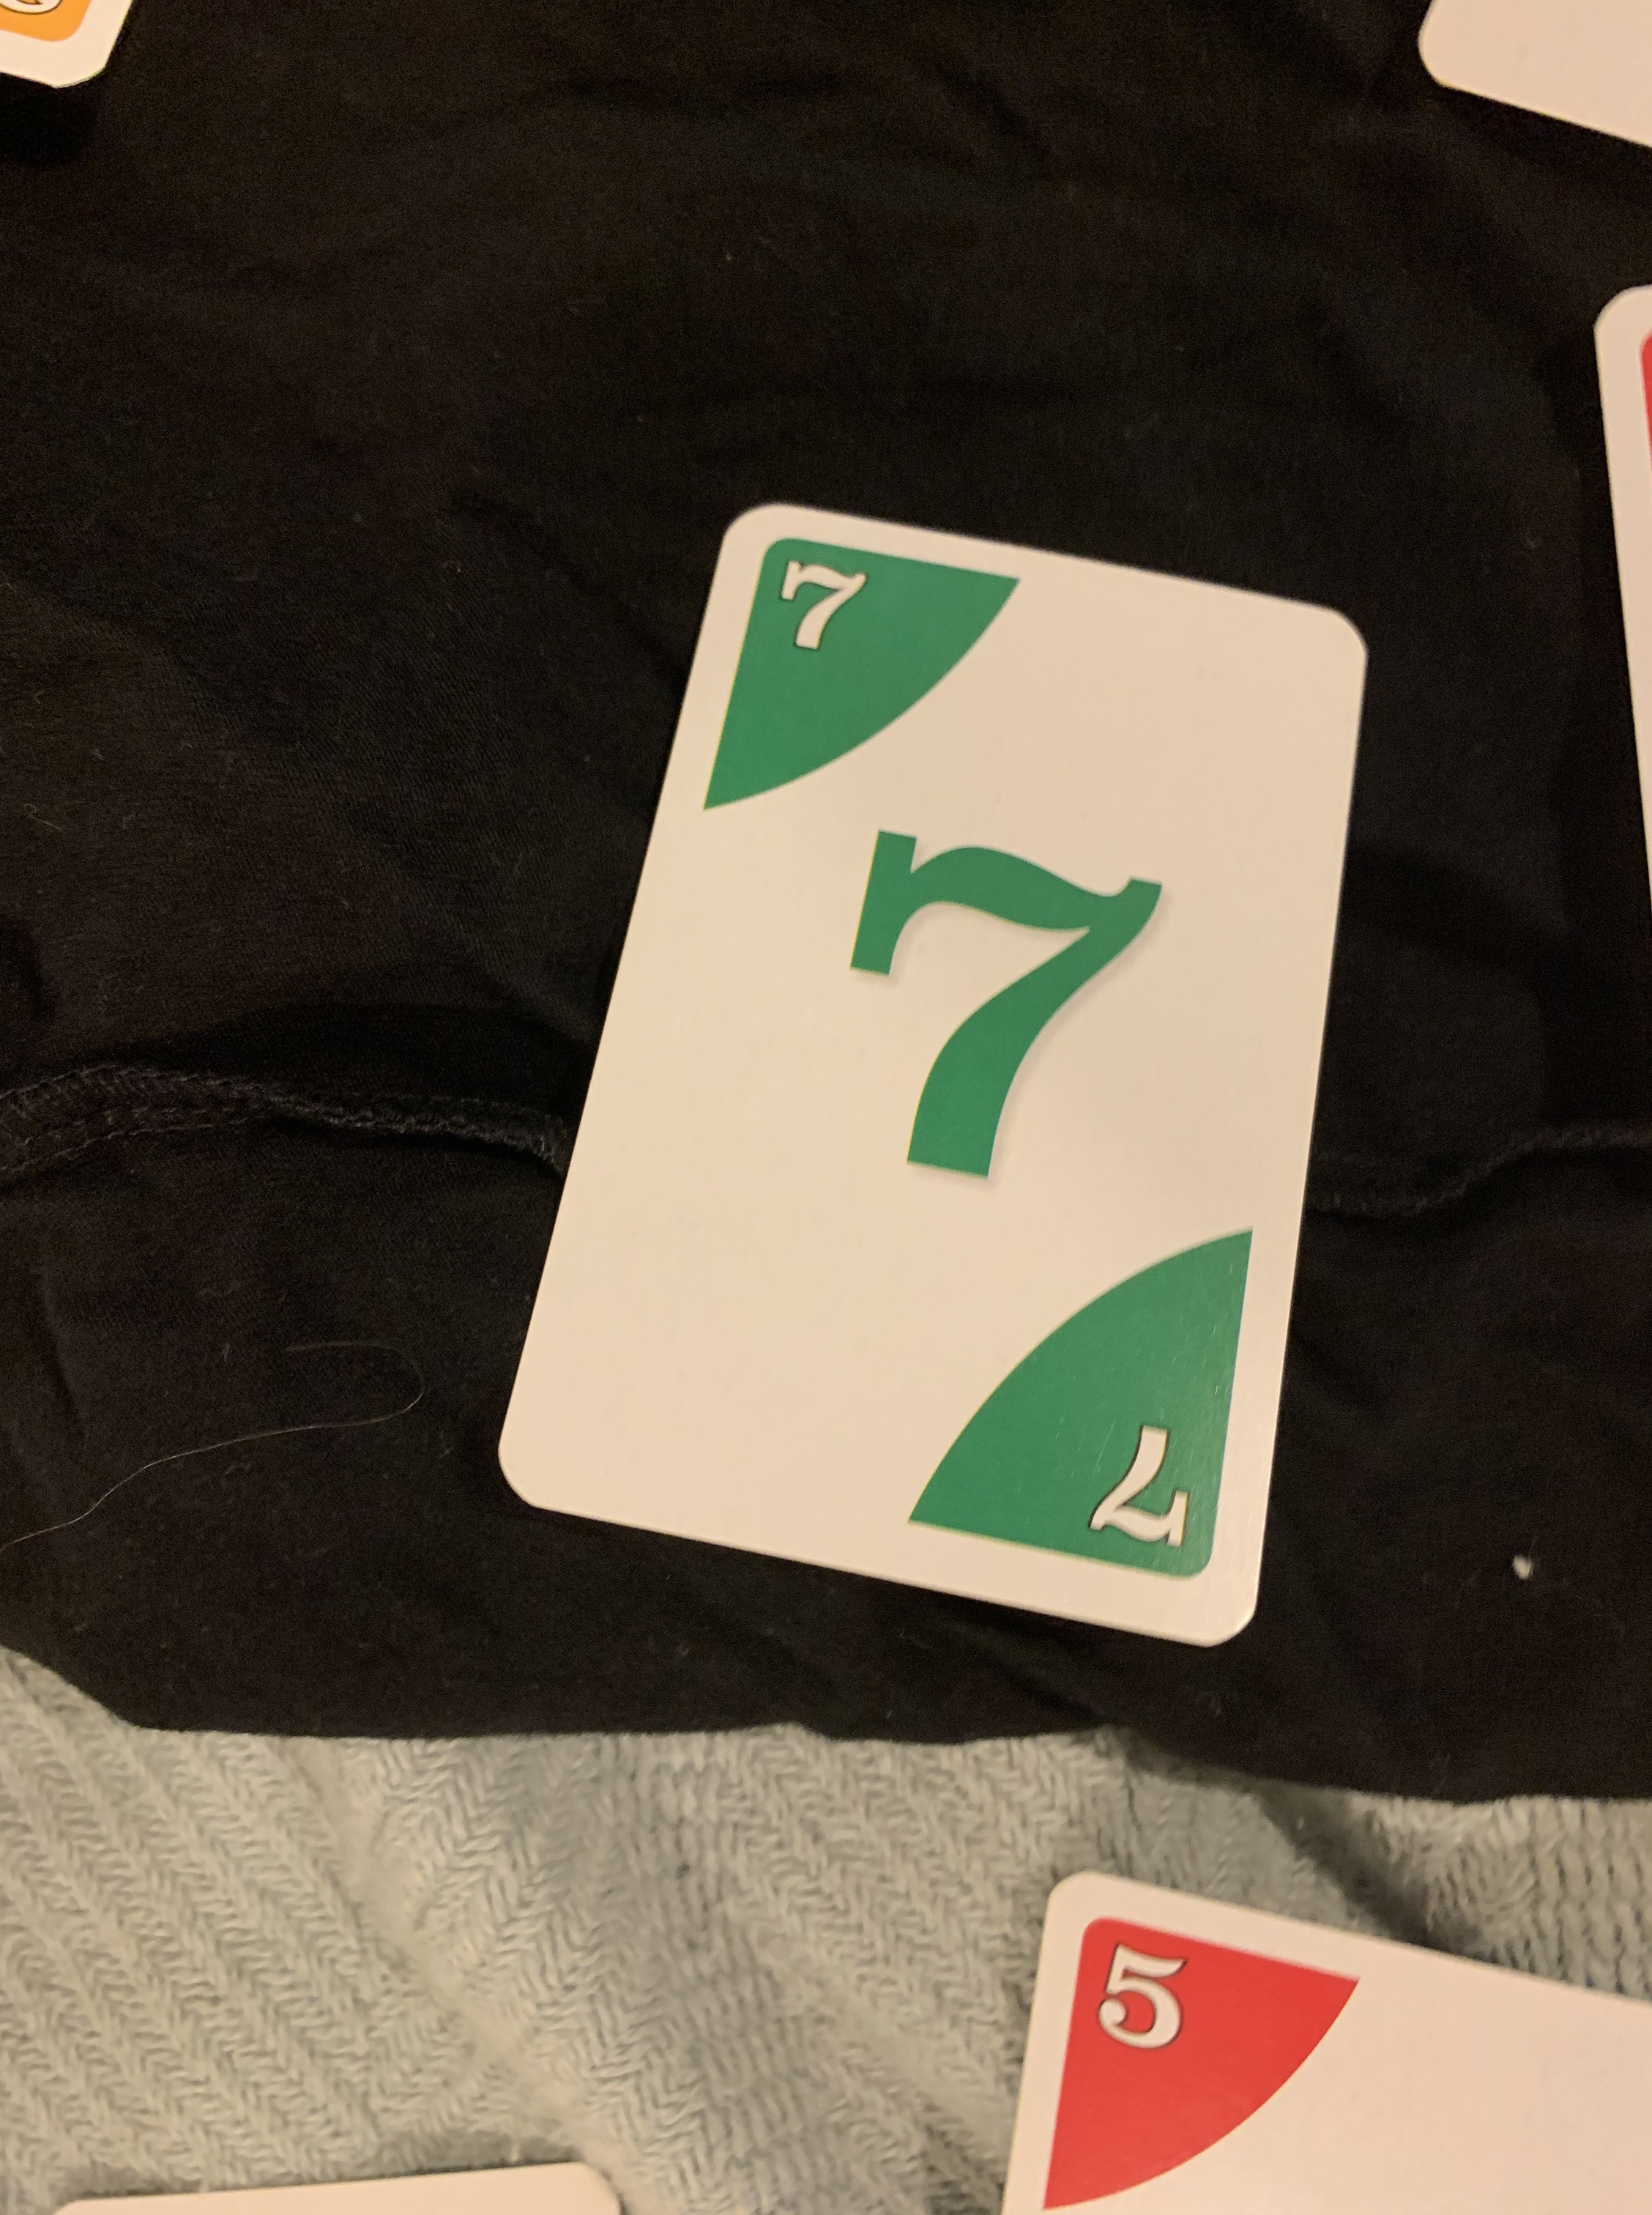seven: (484, 493, 1380, 1673)
